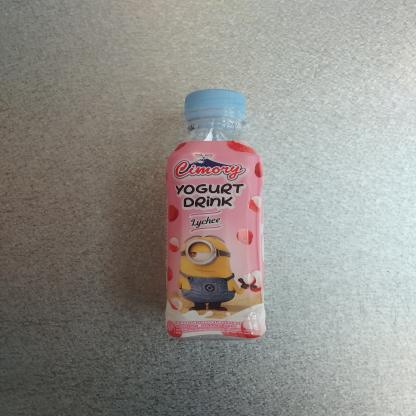bottle: (161, 84, 267, 343)
